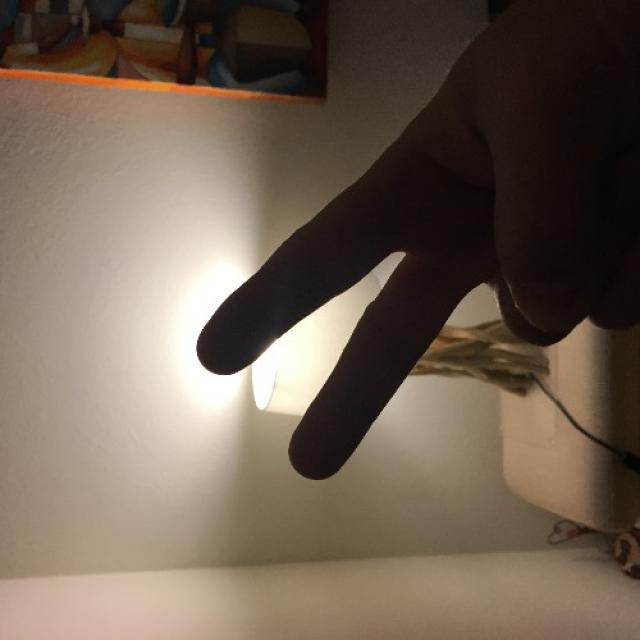scissors: (193, 56, 640, 478)
